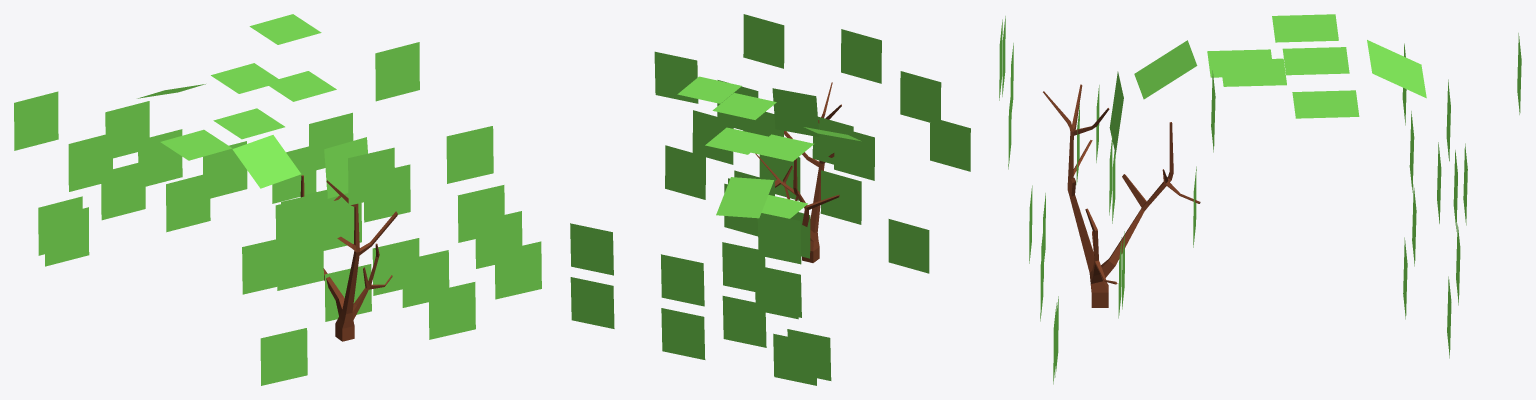
File: arch3.glb
3 renders of one model, left to right at view 1: azimuth 30°, elevation 25°; view 2: azimuth 150°, elevation 25°; view 3: azimuth 270°, elevation 25°, orthographic. The views are drawn at different scales.
Visible parts, largest first — view 1: Cube, Plane.007, Plane.011, Plane.006, Plane.009, Plane.010, Plane.012, Plane.008, Plane.037, Plane.036, Plane.030, Plane.035 (+23 smaller); view 2: Plane.028, Plane.033, Plane.029, Plane.032, Plane.034, Plane.036, Plane.007, Plane.011, Cube, Plane.030, Plane.027, Plane.010 (+21 smaller); view 3: Cube, Plane.025, Plane.023, Plane.024, Plane.019, Plane.022, Plane.021, Plane.020, Plane.003.
Boxes of the visible parts, x1,y1,x2,y2 form: Cube: (300,175,397,341); Plane.007: (260,328,307,385); Plane.011: (446,126,493,183); Plane.006: (402,250,449,307); Plane.009: (281,191,328,249); Plane.010: (348,147,394,205); Plane.012: (457,185,504,242); Plane.008: (242,238,289,294); Plane.037: (375,42,419,101); Plane.036: (14,91,58,150); Plane.030: (105,101,149,160); Plane.035: (44,207,89,266); Plane.028: (661,308,705,359); Plane.033: (570,223,613,275); Plane.029: (570,277,614,328); Plane.032: (661,254,704,306); Plane.034: (773,333,816,385); Plane.036: (754,267,798,319); Plane.007: (888,219,929,273); Plane.011: (743,14,784,68); Cube: (755,82,841,262); Plane.030: (757,213,801,264); Plane.027: (722,296,766,347); Plane.010: (841,29,881,83); Cube: (1043,84,1200,307); Plane.025: (1367,40,1426,98); Plane.023: (1292,90,1359,118); Plane.024: (1134,40,1197,99); Plane.019: (1207,49,1273,77); Plane.022: (1272,14,1338,42); Plane.021: (1282,47,1349,75); Plane.020: (1222,58,1286,86); Plane.003: (1109,71,1123,154).
Size of the model in its own units: 3.68 by 2.55 by 4.05.
